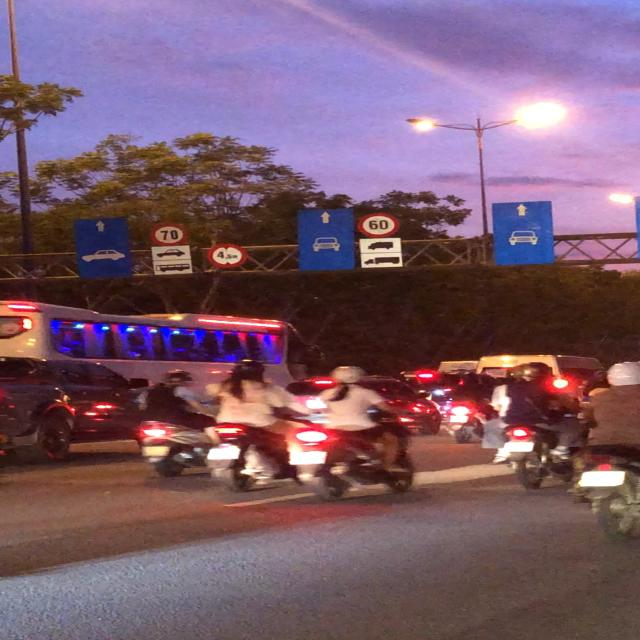Bien bao han che chieu cao: (206, 240, 255, 270)
Bien bao toc do toi da cho phep: (357, 211, 403, 239), (145, 224, 190, 247)
